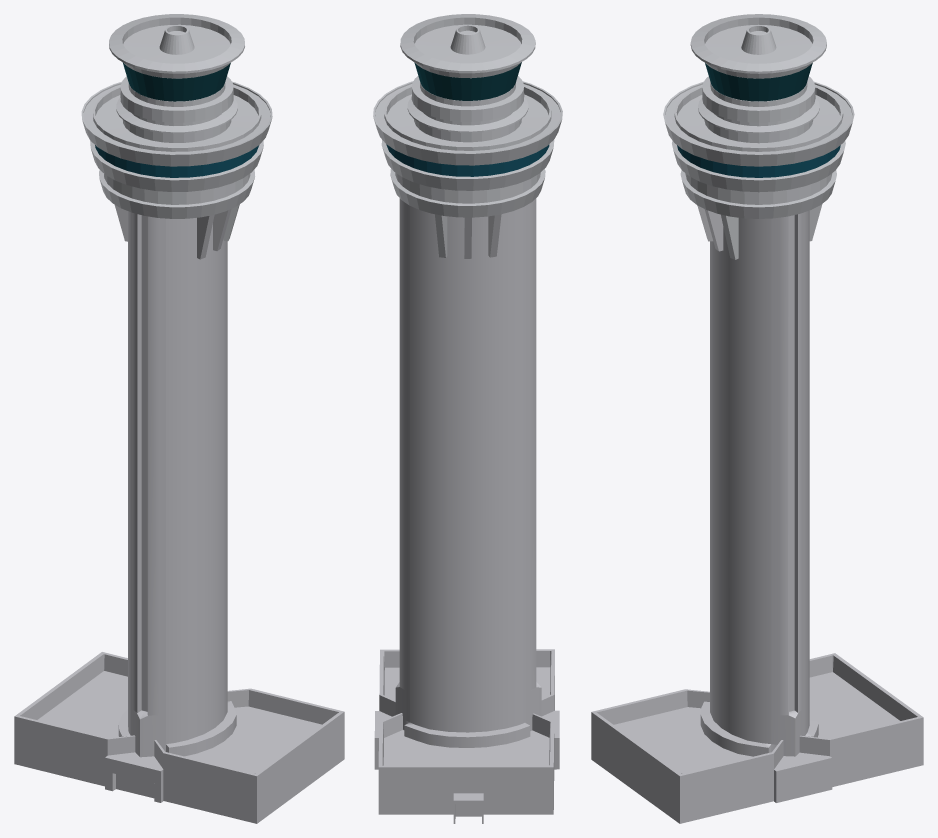
Rendered from Haneda_Tower_rework.gltf.
3 renders of one model, left to right at view 1: azimuth 30°, elevation 25°; view 2: azimuth 150°, elevation 25°; view 3: azimuth 270°, elevation 25°, orthographic.
Visible parts, largest first — view 1: Cube, Cube.001, Cylinder, Cube.010, Cube.002, Cylinder.004, Cylinder.002; view 2: Cube.010, Cylinder, Cube.001, Cylinder.004, Cylinder.002, Cube.002, Cube.003, Cube.008, Cube.007; view 3: Cube, Cube.001, Cylinder, Cube.010, Cube.002, Cylinder.004, Cylinder.002.
Boxes of the visible parts, bbox=[...] form: Cube: bbox=[140, 216, 236, 757]; Cube.001: bbox=[14, 652, 344, 823]; Cylinder: bbox=[81, 14, 272, 218]; Cube.010: bbox=[118, 211, 146, 756]; Cube.002: bbox=[105, 752, 163, 802]; Cylinder.004: bbox=[122, 62, 230, 101]; Cylinder.002: bbox=[95, 145, 259, 177]; Cube.010: bbox=[395, 198, 541, 747]; Cylinder: bbox=[373, 14, 562, 217]; Cube.001: bbox=[378, 649, 554, 814]; Cylinder.004: bbox=[414, 62, 521, 100]; Cylinder.002: bbox=[386, 144, 549, 176]; Cube.002: bbox=[374, 710, 559, 769]; Cube.003: bbox=[453, 793, 483, 823]; Cube.008: bbox=[488, 214, 501, 257]; Cube.007: bbox=[435, 214, 447, 257]; Cube: bbox=[700, 216, 795, 756]; Cube.001: bbox=[591, 653, 923, 823]; Cylinder: bbox=[663, 14, 854, 218]; Cube.010: bbox=[790, 210, 818, 756]; Cube.002: bbox=[774, 752, 832, 802]; Cylinder.004: bbox=[705, 63, 812, 101]; Cylinder.002: bbox=[677, 145, 840, 177].
Size of the model in its own units: 48.66 by 135 by 55.49.
